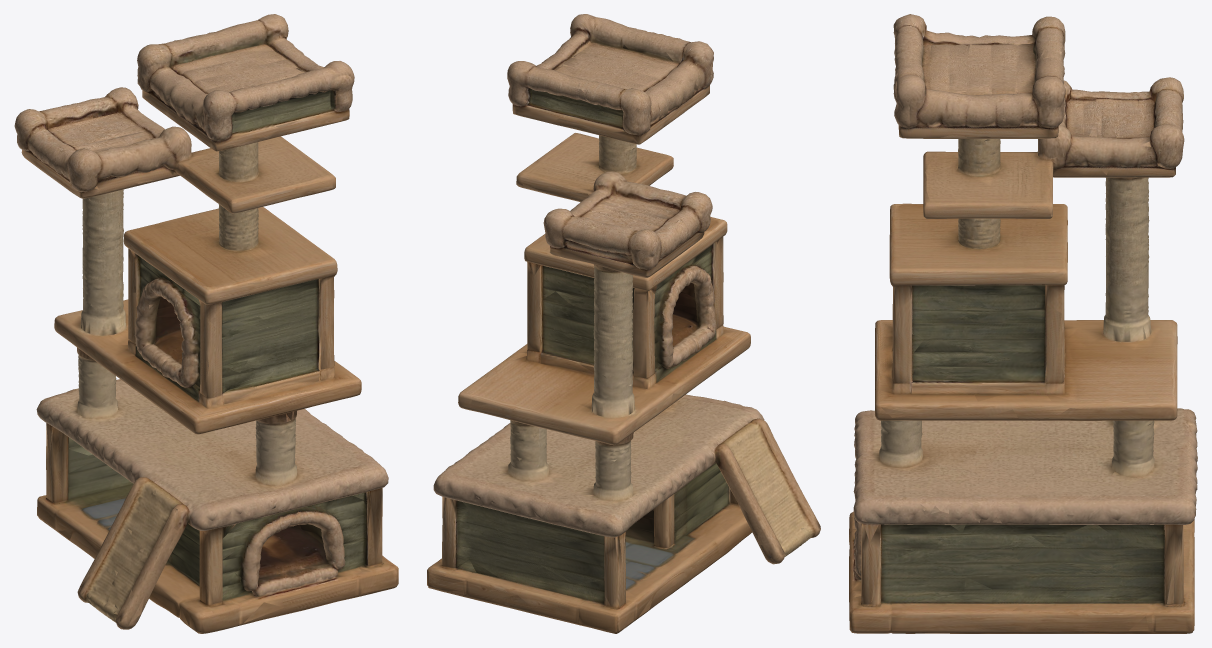
The model's file is DOM_kotik_5__base.glb.
3 renders of one model, left to right at view 1: azimuth 30°, elevation 25°; view 2: azimuth 150°, elevation 25°; view 3: azimuth 270°, elevation 25°, orthographic. The views are drawn at different scales.
Parts seen in each view (by area): view 1: tripo_node_425362f4-8ca0-427b-b30d-b93e9438a31b; view 2: tripo_node_425362f4-8ca0-427b-b30d-b93e9438a31b; view 3: tripo_node_425362f4-8ca0-427b-b30d-b93e9438a31b.
Boxes of the visible parts, x1=… form: tripo_node_425362f4-8ca0-427b-b30d-b93e9438a31b: x1=14, y1=14, x2=398, y2=633; tripo_node_425362f4-8ca0-427b-b30d-b93e9438a31b: x1=427, y1=14, x2=820, y2=633; tripo_node_425362f4-8ca0-427b-b30d-b93e9438a31b: x1=849, y1=14, x2=1197, y2=633.
Bounding box in the file's own units: 0.5343 × 0.9799 × 0.572.
1 material, 1 textured.
